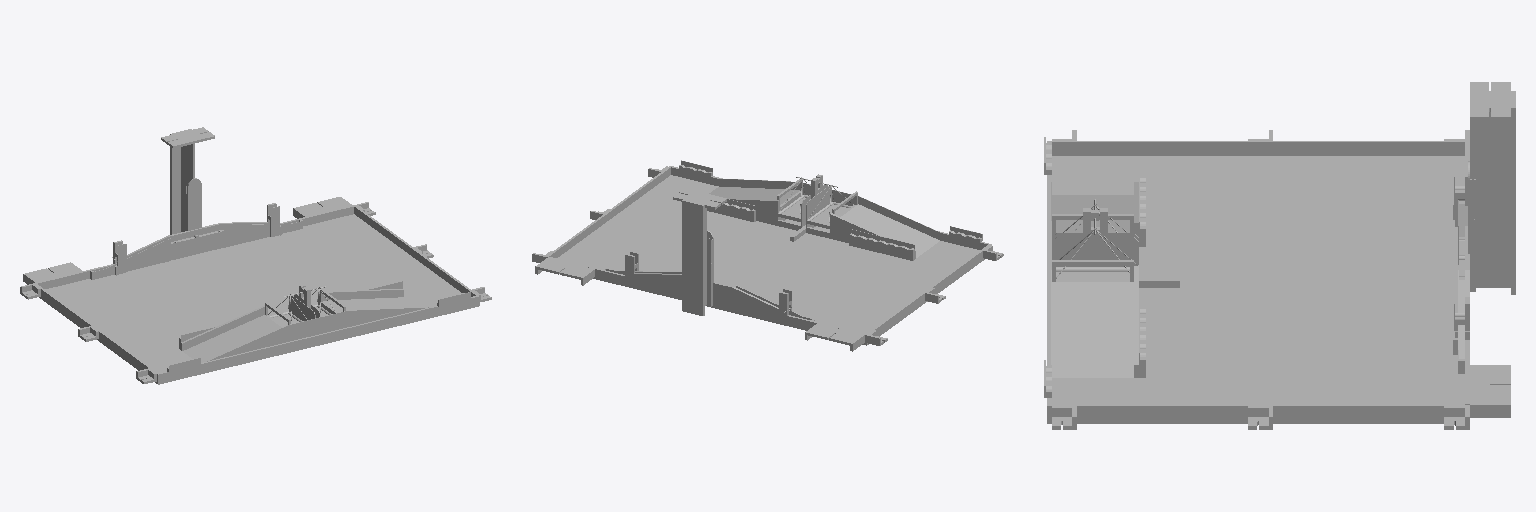
URDF robot description (eurobot2019_t):
<robot
  name="eurobot2019_t">
  <link
    name="base_link">
    <inertial>
      <origin
        xyz="1.5 0.064683 0.97131"
        rpy="0 0 0" />
      <mass
        value="217.15" />
      <inertia
        ixx="117.72"
        ixy="8.0681E-05"
        ixz="-0.001115"
        iyy="270.51"
        iyz="6.3727"
        izz="162.37" />
    </inertial>
    <visual>
      <origin
        xyz="0 0 0"
        rpy="0 0 0" />
      <geometry>
        <mesh
          filename="package://eurobot2019_t/meshes/base_link.STL" />
      </geometry>
      <material
        name="">
        <color
          rgba="0.75294 0.75294 0.75294 1" />
        <texture
          filename="package://eurobot2019_t/textures/duck.png" />
      </material>
    </visual>
    <collision>
      <origin
        xyz="0 0 0"
        rpy="0 0 0" />
      <geometry>
        <mesh
          filename="package://eurobot2019_t/meshes/base_link.STL" />
      </geometry>
    </collision>
  </link>
</robot>

--- Facts derived from the render (not from the file) ---
The picture shows the robot from 3 angles, left to right: view 1: azimuth 30°, elevation 25°; view 2: azimuth 150°, elevation 25°; view 3: azimuth 270°, elevation 25°; orthographic projection.
Robot: eurobot2019_t — 1 links, 0 joints (none); root link base_link; default pose: every joint at zero.
Visible links, largest first — view 1: base_link; view 2: base_link; view 3: base_link.
Link boxes in pixels (x1,y1,x2,y2): base_link: (20, 127, 491, 384); base_link: (532, 160, 1003, 351); base_link: (1044, 82, 1515, 429).
Bounding box of the posed robot: 3.29 × 2.28 × 1.02 m (x, y, z).
Meshes: 1 distinct files referenced, 1 mesh visuals loaded (1 binary STL).